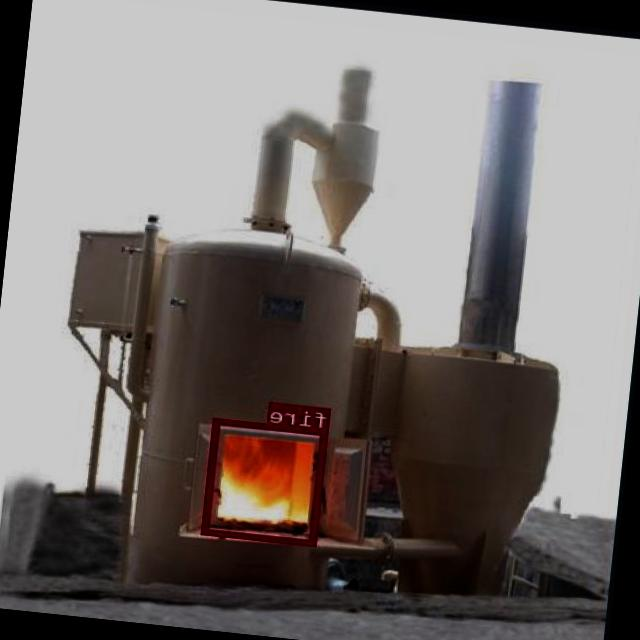fire: (203, 418, 330, 544)
